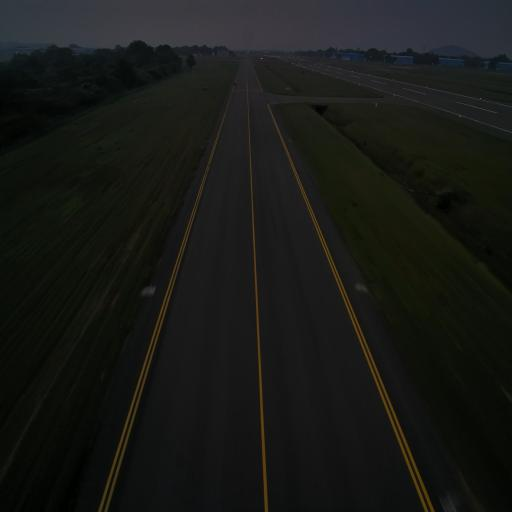on: (148, 282, 154, 293), (356, 279, 362, 289), (208, 136, 211, 142), (289, 137, 291, 142)
